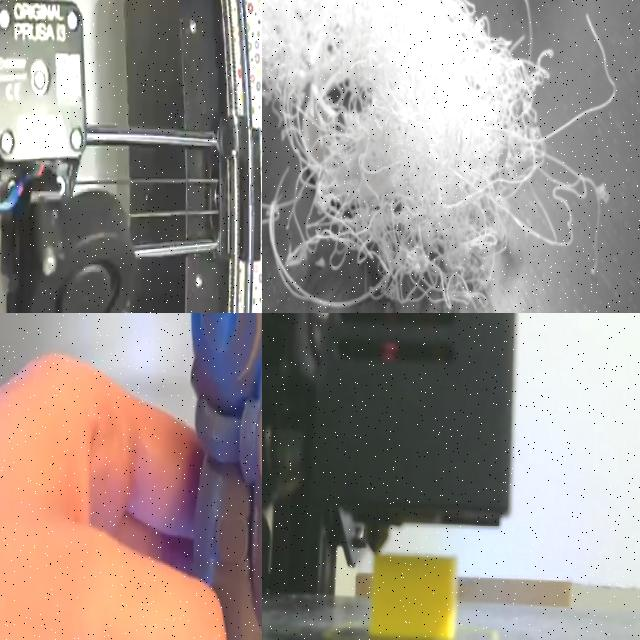spaghetti: (262, 0, 550, 308)
